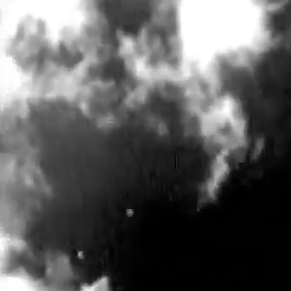Target: (79, 209, 134, 257)
